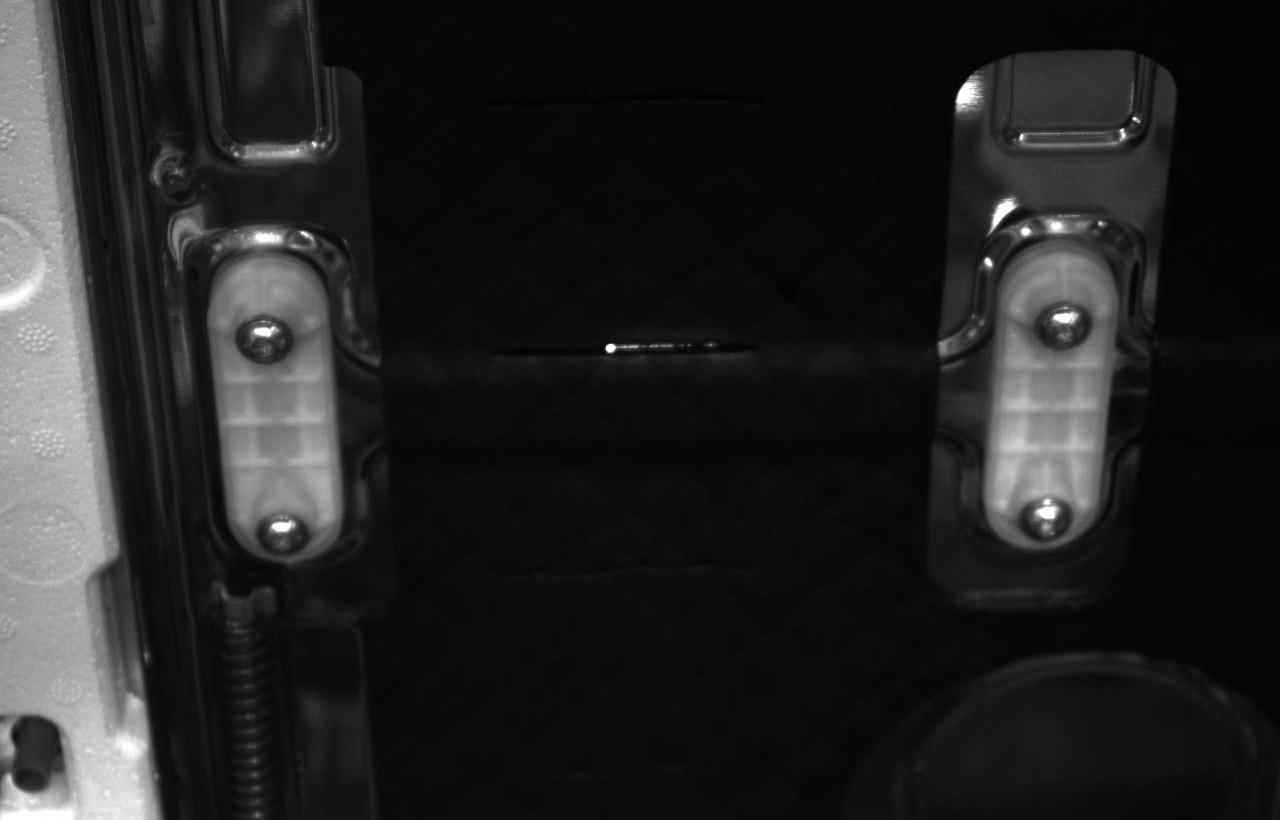vida-ok: (227, 302, 299, 369), (1013, 479, 1079, 548), (1030, 291, 1097, 358), (256, 504, 321, 562)
